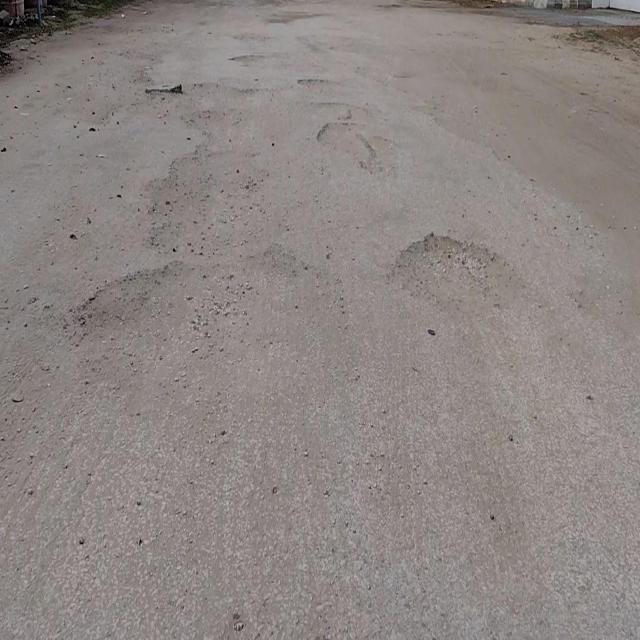Potholes: (390, 229, 513, 324), (316, 121, 376, 176)
